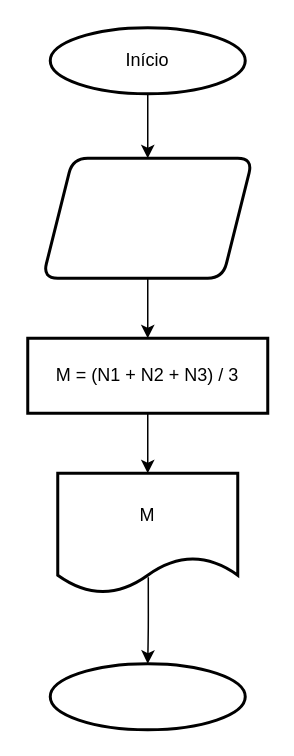
Image size: 294x756. Some labels were removed from this diagram. The shapes that lost their labels are listed below. From the top down, each one's box as (x1, y1, x2, y2) in pixels, then its label:
(40, 156, 254, 279): N1, N2, N3
(48, 662, 246, 730): Fim
